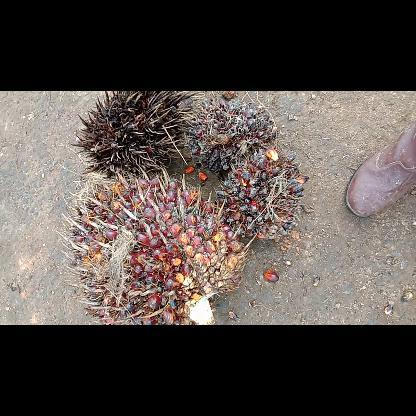Janjang kosong: (68, 91, 198, 174)
TBS abnormal: (212, 146, 310, 244), (178, 98, 280, 172)
TBS masak: (54, 170, 250, 324)
